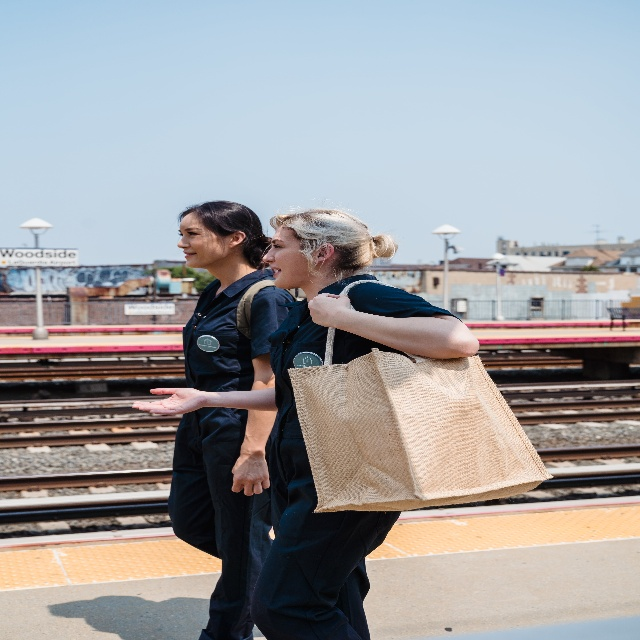Sin_guantes: (132, 384, 206, 419), (307, 292, 352, 329), (232, 453, 269, 492)
